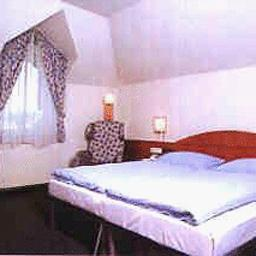Cama: (44, 144, 254, 253)
Ventana: (6, 48, 68, 145)
